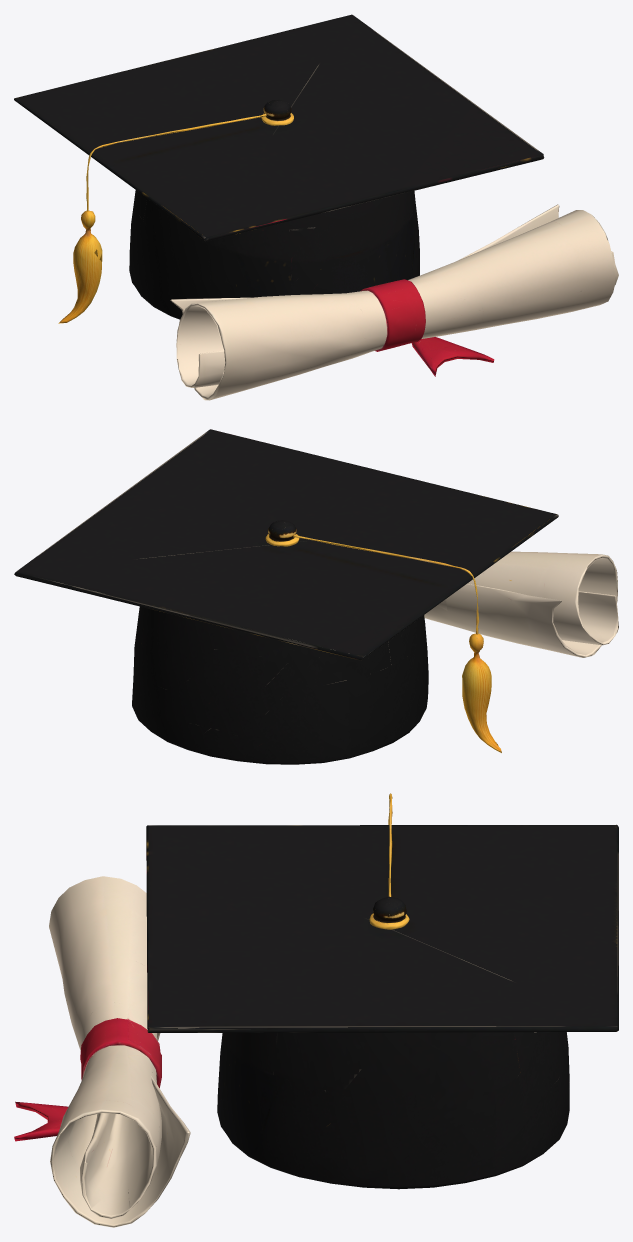
Rendered from graduate cap.glb.
3 views of the same model, one above another, from view 1: azimuth 30°, elevation 25°; view 2: azimuth 150°, elevation 25°; view 3: azimuth 270°, elevation 25° (orthographic). The views are drawn at different scales.
Visible parts, largest first — view 1: mesh_node; view 2: mesh_node; view 3: mesh_node.
Boxes of the visible parts, <box> form: mesh_node: <box>14,14,618,400</box>; mesh_node: <box>14,429,618,764</box>; mesh_node: <box>14,793,618,1227</box>.
Bounding box in the file's own units: 2 × 0.7754 × 1.96.
1 material, 1 textured.
